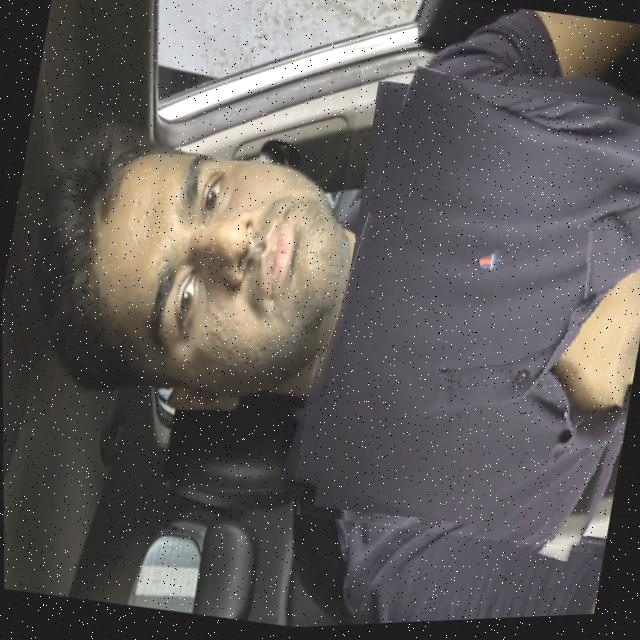no-seatbelt: (285, 59, 640, 570)
